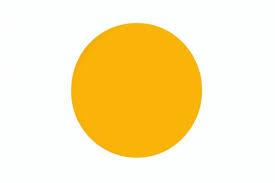yellow_circle: (70, 21, 203, 159)
